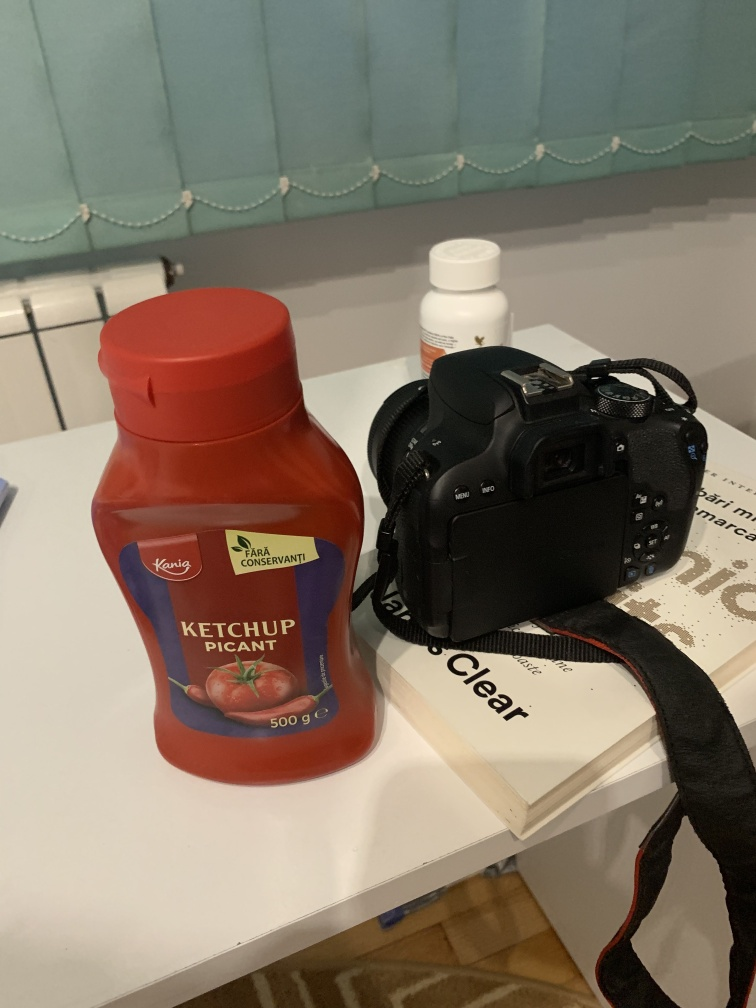ketchup: (83, 287, 386, 793)
